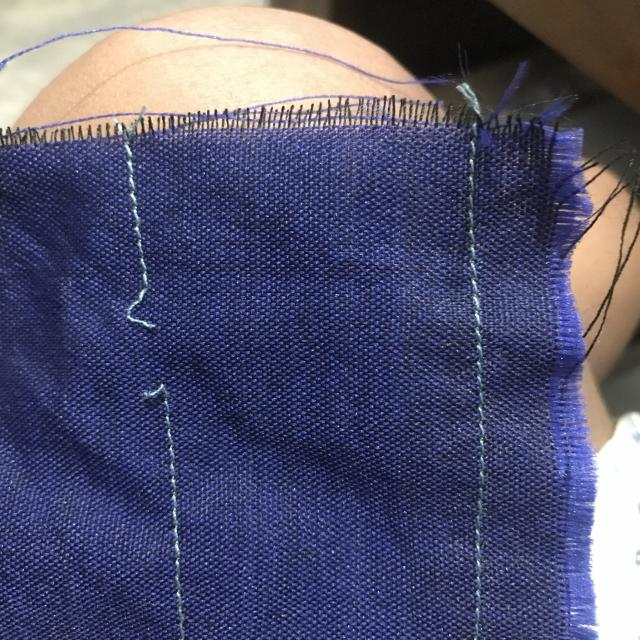broken: (106, 276, 201, 412)
good: (112, 176, 160, 254)
